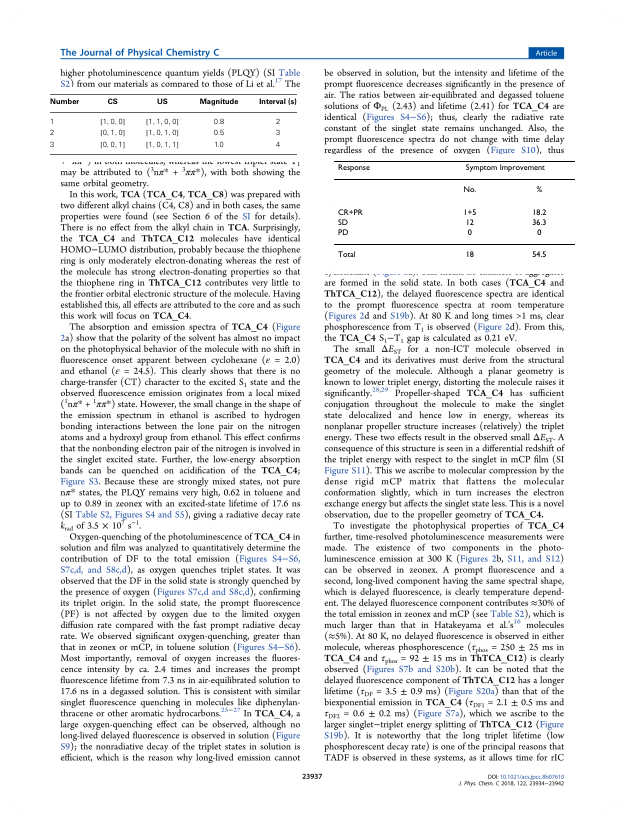borderless: (332, 159, 576, 268), (49, 92, 297, 154)
cell: (464, 164, 545, 173), (198, 98, 239, 107), (258, 98, 297, 107), (144, 117, 179, 126), (144, 140, 179, 149), (336, 164, 370, 173), (48, 98, 80, 107), (144, 129, 179, 137), (336, 208, 363, 218), (99, 117, 126, 126), (99, 140, 126, 149), (99, 129, 126, 137), (336, 251, 356, 260), (531, 208, 547, 218), (531, 218, 547, 228), (462, 208, 477, 218), (531, 251, 547, 260), (462, 186, 477, 195), (336, 218, 348, 228), (336, 229, 349, 238), (155, 98, 168, 107), (106, 98, 118, 107), (212, 117, 225, 125), (464, 218, 474, 228), (212, 129, 225, 136), (464, 251, 474, 260), (213, 140, 224, 148), (535, 186, 543, 195), (48, 117, 55, 125), (466, 229, 472, 238), (536, 229, 542, 238), (274, 117, 280, 125), (49, 140, 55, 148), (274, 140, 280, 148), (49, 129, 55, 136), (274, 129, 280, 136)
